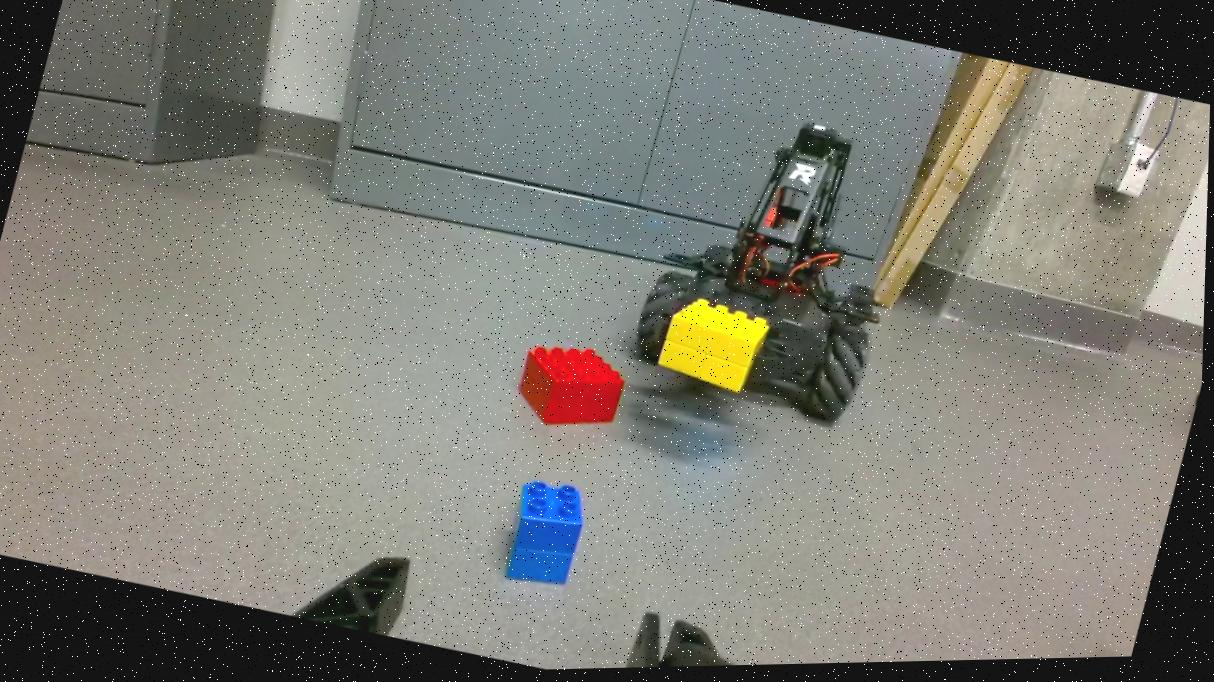2x2lego: (498, 473, 598, 599)
4x4lego: (509, 332, 638, 444)
